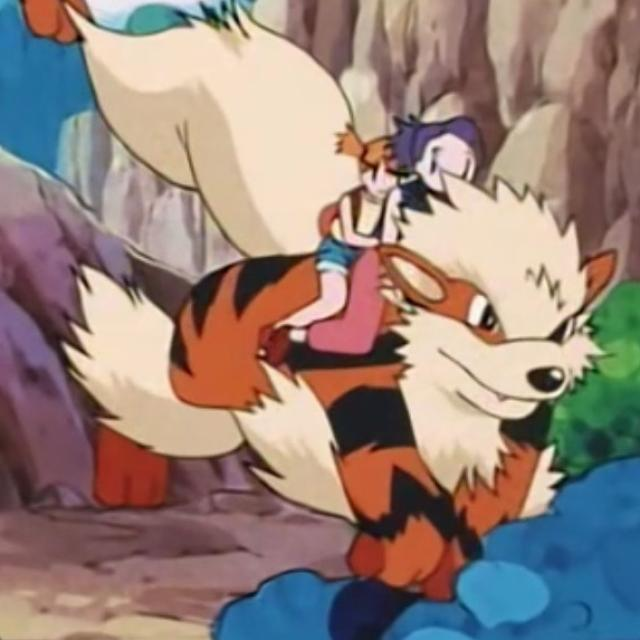Arcanine: (155, 168, 628, 578)
